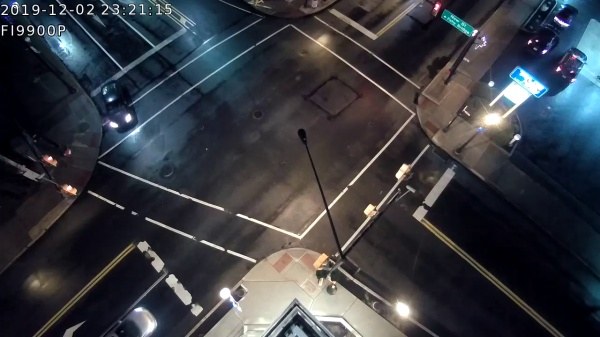car: (95, 72, 141, 136), (107, 300, 157, 337), (553, 45, 588, 85), (526, 23, 559, 55), (552, 5, 579, 29)
